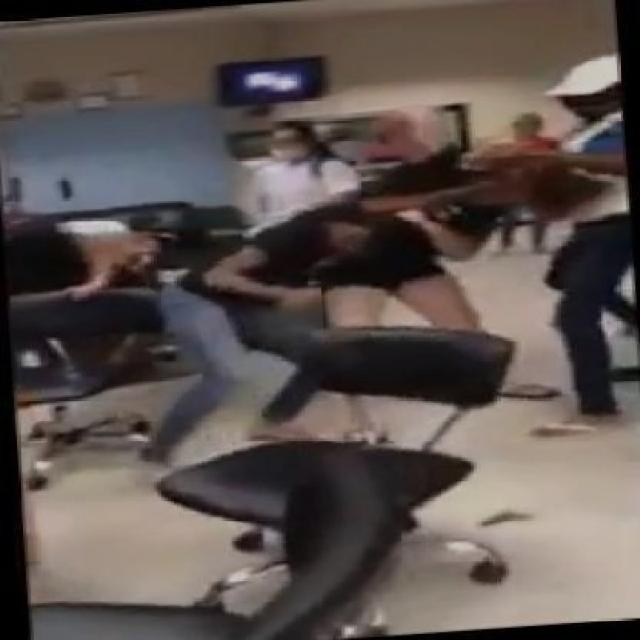fight: (86, 48, 640, 452)
